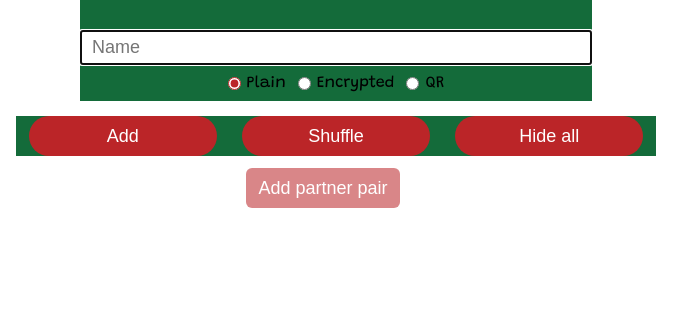
it: Generator UI › does not shuffle fewer than two participants
This screenshot has width=673, height=333.
Step 1. Type "Jane" into the field with placeholder "Name" → (336, 48), box x1=80 y1=30 x2=592 y2=65
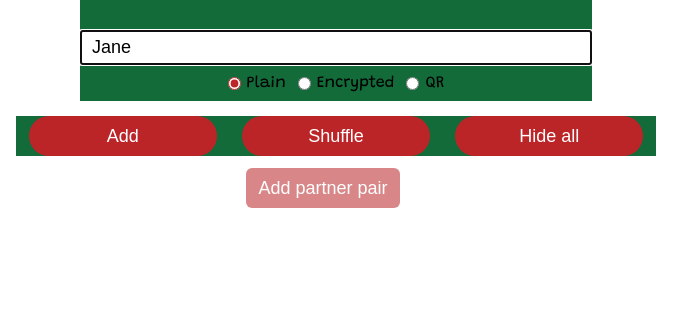
Step 2. Click the button "Add" → (123, 136), box x1=29 y1=116 x2=216 y2=156
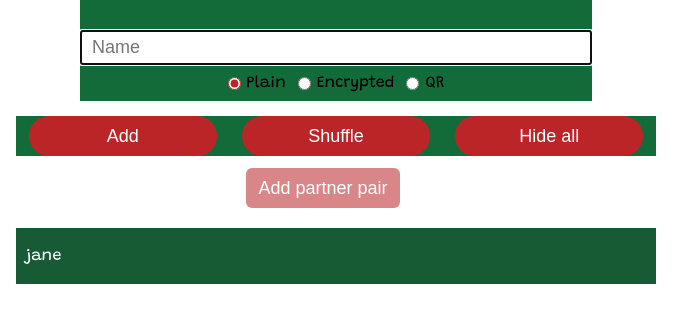
Step 3. Click the button "Shuffle" → (336, 136), box x1=242 y1=116 x2=430 y2=156
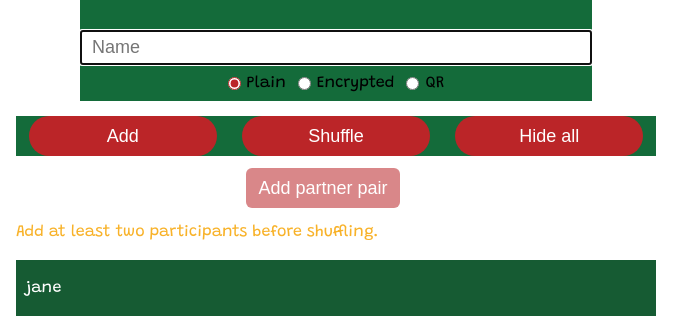
expect the message shows "Add at least two participants": met, box x1=16 y1=224 x2=379 y2=240
